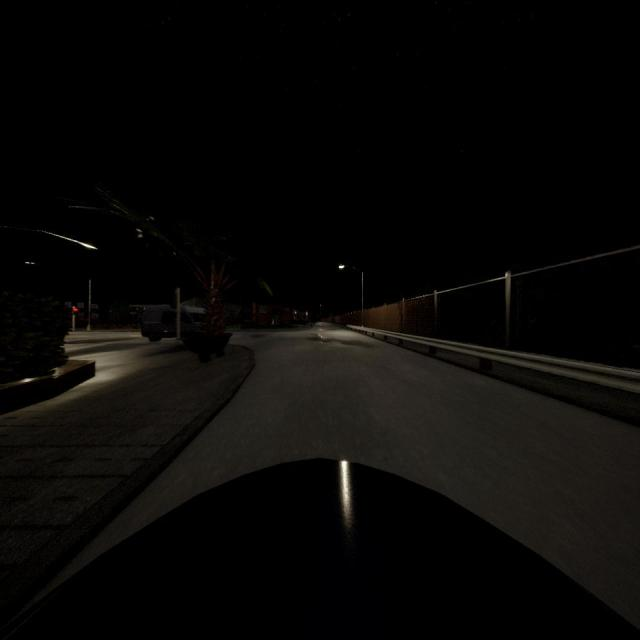Vehicle: (1, 459, 640, 640), (139, 301, 210, 344)
traffic_light: (72, 308, 79, 315)
